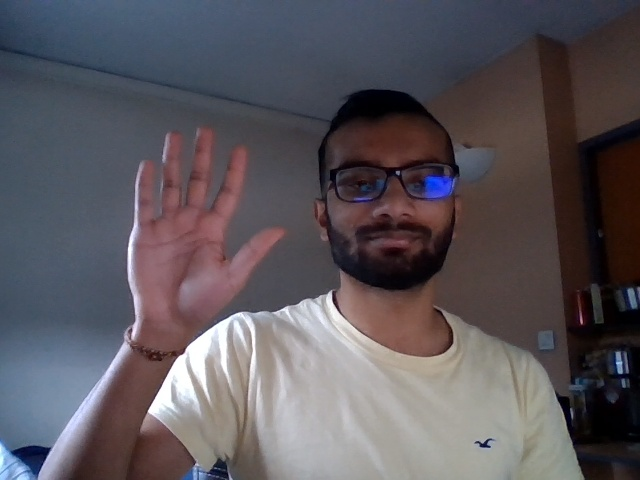Hello: (106, 119, 289, 321)
